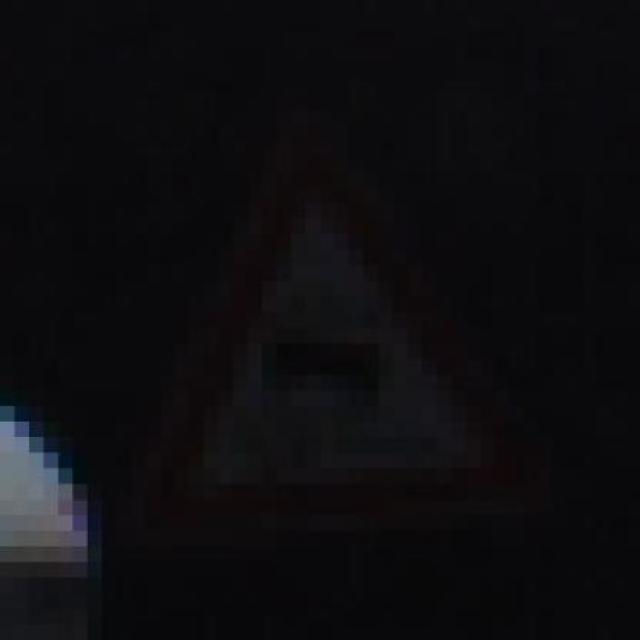Slippery Road Ahead: (73, 124, 524, 562)
